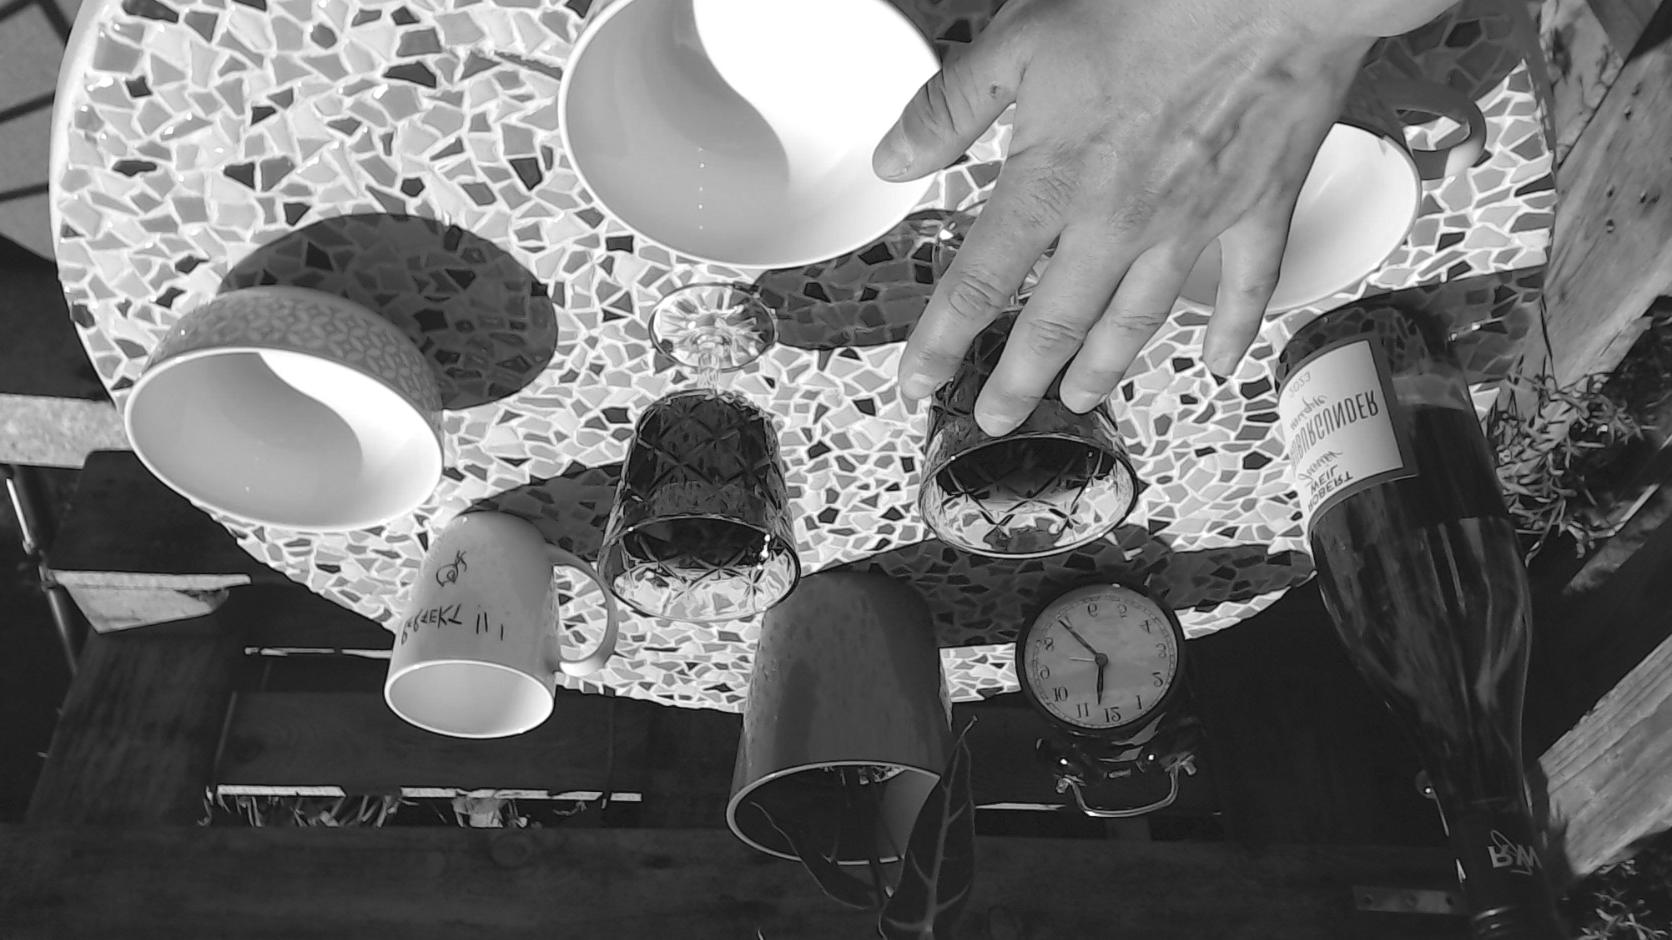bottle: (1272, 301, 1573, 940)
bowl_close: (556, 0, 943, 272)
bowl_far: (117, 285, 443, 536)
clock: (1020, 582, 1181, 733)
cup_close: (1172, 65, 1452, 323)
cup_far: (381, 512, 618, 740)
hand_medium: (885, 0, 1378, 422)
potted_plant: (725, 566, 980, 940)
wineglass_close: (918, 342, 1141, 557)
wineglass_far: (595, 275, 800, 626)
